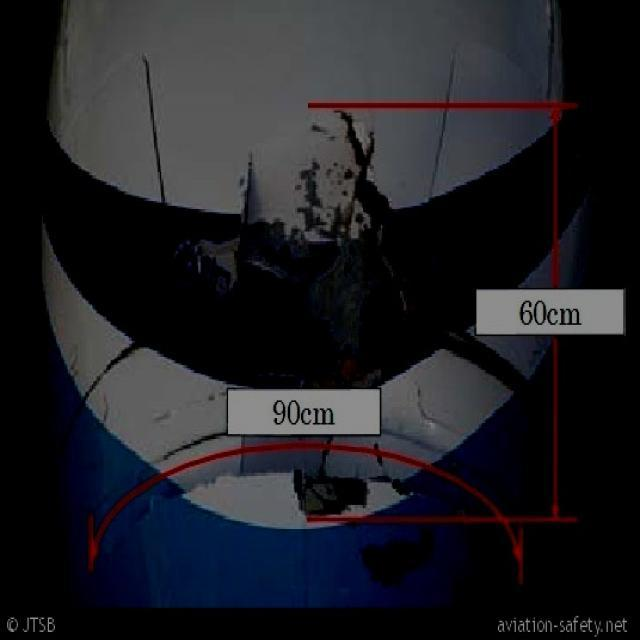crack: (201, 154, 269, 293)
